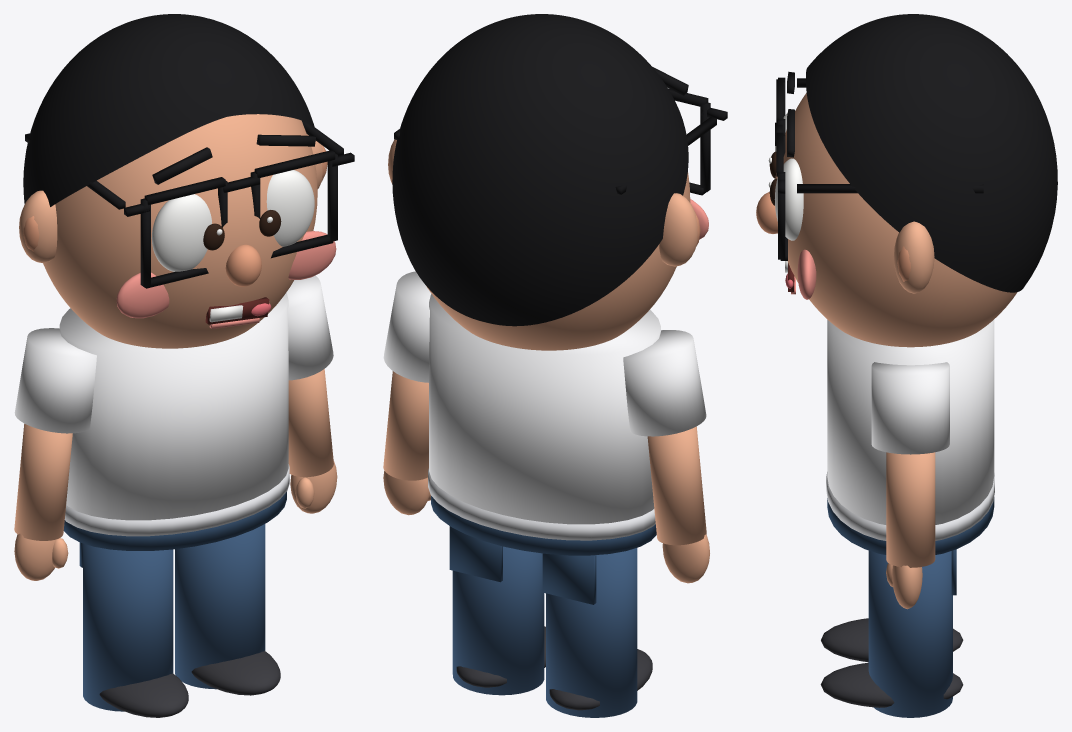
The picture shows the model from 3 angles, left to right: view 1: azimuth 30°, elevation 25°; view 2: azimuth 150°, elevation 25°; view 3: azimuth 270°, elevation 25°; orthographic projection. The views are drawn at different scales.
Visible parts, largest first — view 1: torso_shirt, head, hair, leg_L, leg_R, sleeve_L, arm_L, arm_R, sleeve_R, shirt_hem, ballL0, waistband (+18 smaller); view 2: hair, torso_shirt, leg_L, leg_R, head, sleeve_L, arm_L, arm_R, sleeve_R, shirt_hem, waistband, back_pocket_L (+7 smaller); view 3: hair, head, torso_shirt, leg_R, sleeve_R, arm_R, shoe_R, shirt_hem, ear_R, waistband, shoe_L, ballR0 (+5 smaller).
Part boxes in pixels (x1,y1,x2,y2): torso_shirt: [59, 292, 288, 520]; head: [43, 114, 317, 348]; hair: [23, 14, 314, 206]; leg_L: [83, 543, 173, 711]; leg_R: [175, 524, 265, 689]; sleeve_L: [14, 328, 96, 433]; arm_L: [14, 423, 72, 540]; arm_R: [288, 369, 333, 477]; sleeve_R: [286, 275, 333, 380]; shirt_hem: [64, 464, 289, 536]; ballL0: [151, 194, 211, 271]; waistband: [63, 492, 286, 550]; hair: [392, 14, 688, 326]; torso_shirt: [429, 294, 660, 524]; leg_L: [546, 548, 637, 717]; leg_R: [452, 546, 544, 695]; head: [426, 172, 690, 350]; sleeve_L: [623, 330, 706, 436]; arm_L: [647, 426, 706, 545]; arm_R: [383, 371, 428, 480]; sleeve_R: [383, 271, 431, 382]; shirt_hem: [428, 468, 655, 540]; waistband: [431, 496, 656, 555]; back_pocket_L: [542, 553, 596, 604]; hair: [806, 14, 1057, 292]; head: [775, 93, 1017, 347]; torso_shirt: [827, 319, 994, 524]; leg_R: [868, 550, 952, 717]; sleeve_R: [871, 362, 949, 454]; arm_R: [886, 452, 935, 567]; shoe_R: [820, 662, 963, 707]; shirt_hem: [826, 472, 994, 540]; ear_R: [893, 221, 934, 293]; waistband: [827, 497, 994, 554]; shoe_L: [821, 618, 963, 662]; ballR0: [774, 158, 803, 240].
Size of the model in its own units: 1.08 by 2.11 by 0.8879.
